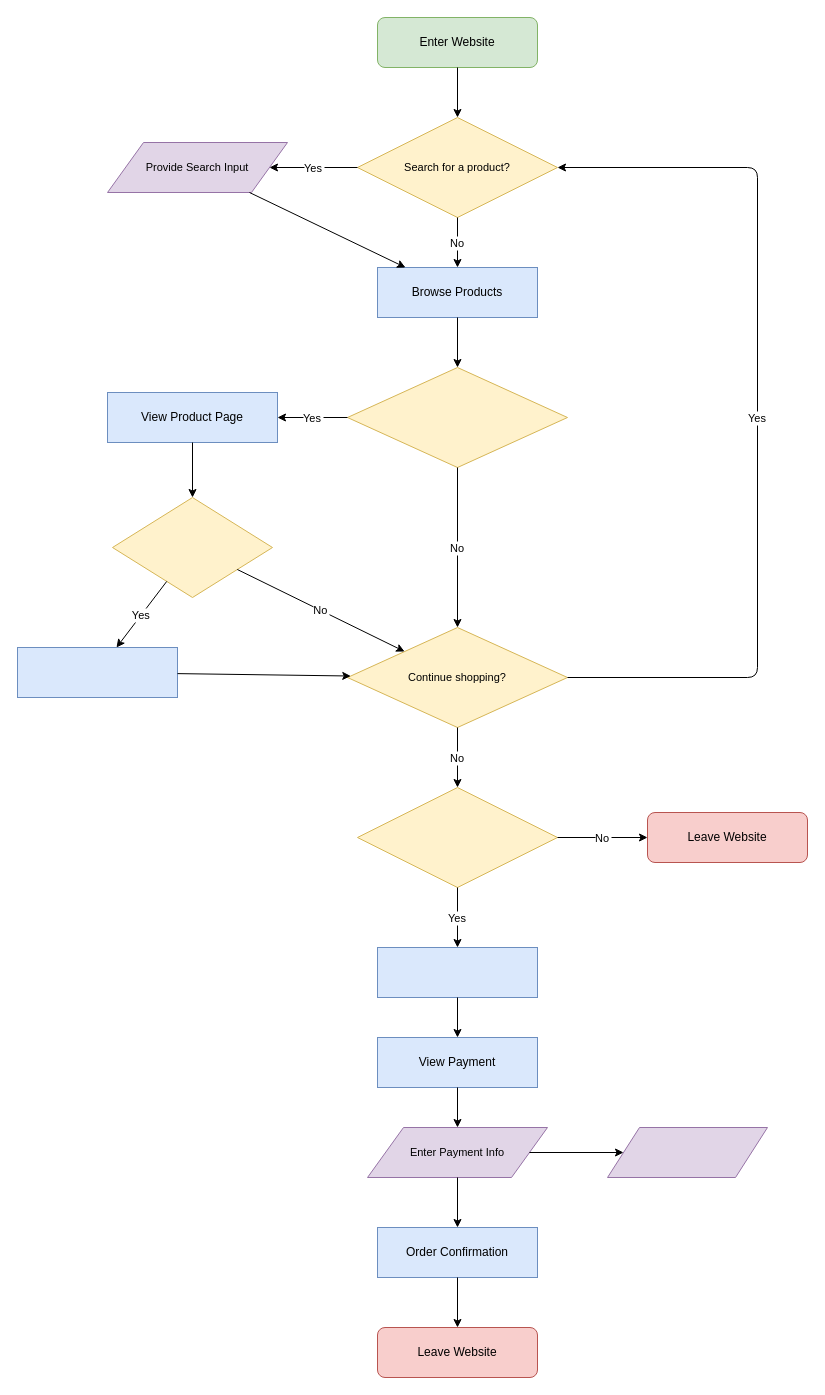
The diagram is 825 pixels wide and 1395 high, and some of its shapes have lost their labels. Here are the shapes that lost their labels. From the top down, the centre of each, then its label:
the point at 457,417: View a specific product?
the point at 192,547: Add to cart?
the point at 97,672: Added to Cart Confirmation
the point at 457,837: Checkout?
the point at 457,972: View Cart
the point at 687,1152: Receive Email
